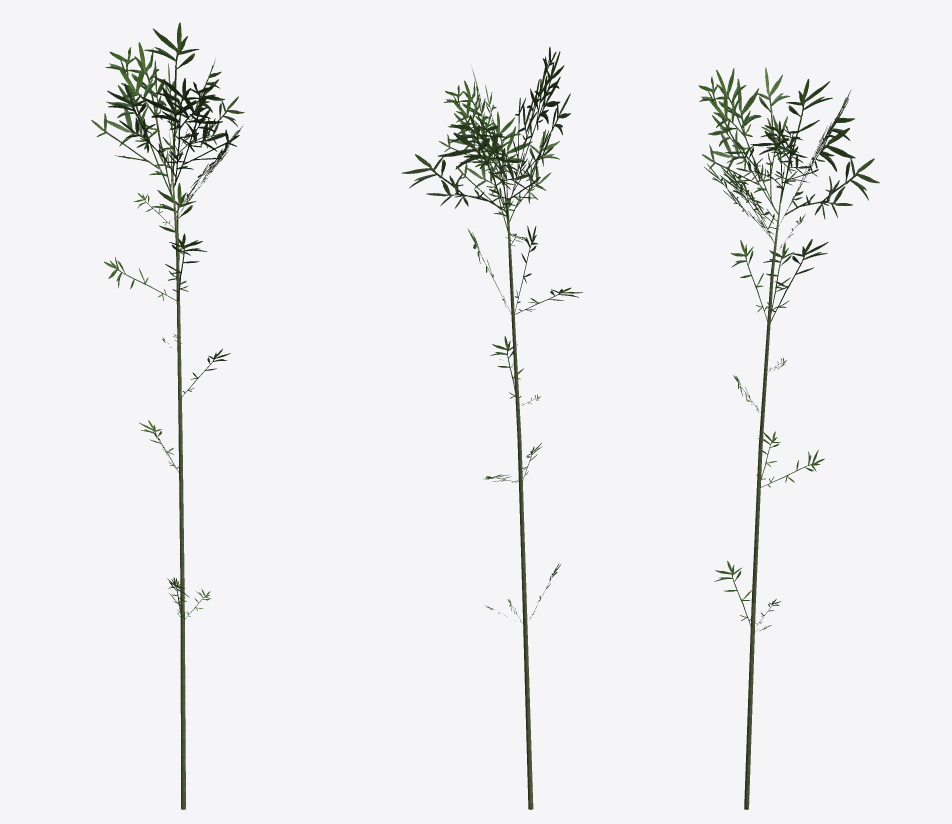
File: leaf_bamboo_sm_l0.fbx
3 views of the same model, side by side, from view 1: azimuth 30°, elevation 25°; view 2: azimuth 150°, elevation 25°; view 3: azimuth 270°, elevation 25° (orthographic). The views are drawn at different scales.
Visible parts, largest first — view 1: mesh_node; view 2: mesh_node; view 3: mesh_node.
Part boxes in pixels (box(x1,y1,x2,y2)): mesh_node: box(91, 22, 244, 809); mesh_node: box(401, 47, 582, 809); mesh_node: box(698, 67, 879, 809).
Bounding box in the file's own units: 3.46 × 11.65 × 4.24.
